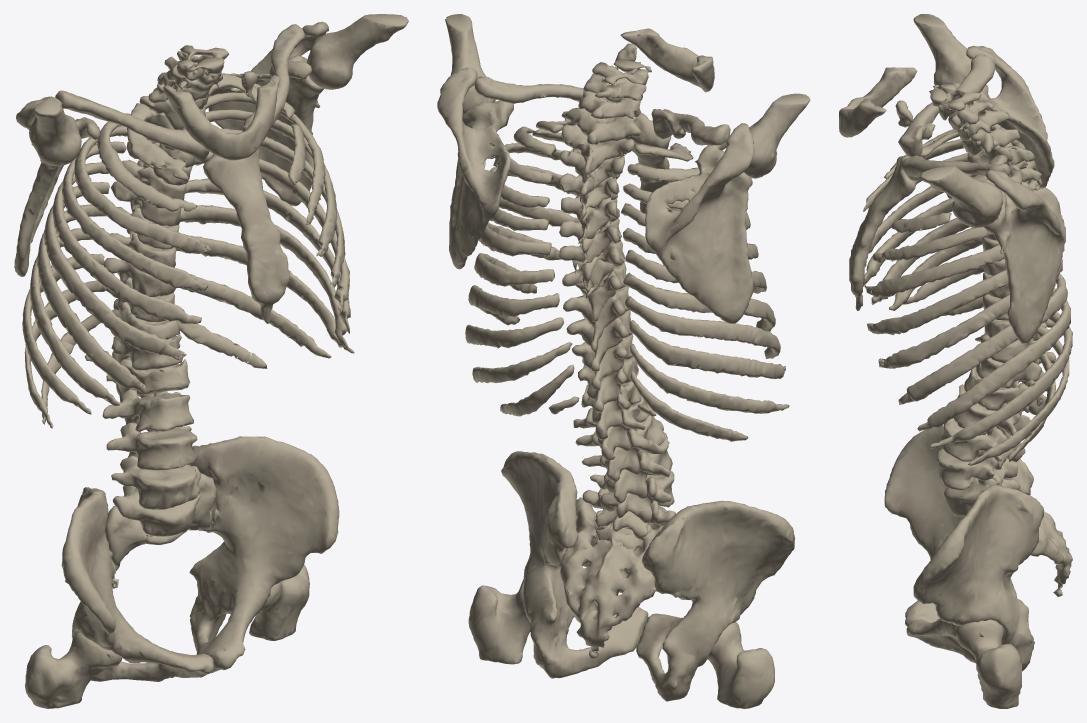
Rendered from tsd_s0196_older_adult_female.skeletal.LOD2.glb.
3 views of the same model, side by side, from view 1: azimuth 30°, elevation 25°; view 2: azimuth 150°, elevation 25°; view 3: azimuth 270°, elevation 25° (orthographic). The views are drawn at different scales.
Visible parts, largest first — view 1: TSD_S0196.OLDER_ADULT.FEMALE.SKELETAL.HIP_BONE_OS_COXAE.L, TSD_S0196.OLDER_ADULT.FEMALE.SKELETAL.HIP_BONE_OS_COXAE.R, TSD_S0196.OLDER_ADULT.FEMALE.SKELETAL.STERNUM, TSD_S0196.OLDER_ADULT.FEMALE.SKELETAL.SCAPULA.L, TSD_S0196.OLDER_ADULT.FEMALE.SKELETAL.FEMUR.R, TSD_S0196.OLDER_ADULT.FEMALE.SKELETAL.SKULL, TSD_S0196.OLDER_ADULT.FEMALE.SKELETAL.HUMERUS.L, TSD_S0196.OLDER_ADULT.FEMALE.SKELETAL.RIB_6.R, TSD_S0196.OLDER_ADULT.FEMALE.SKELETAL.RIB_5.R, TSD_S0196.OLDER_ADULT.FEMALE.SKELETAL.RIB_7.R, TSD_S0196.OLDER_ADULT.FEMALE.SKELETAL.RIB_4.R, TSD_S0196.OLDER_ADULT.FEMALE.SKELETAL.SCAPULA.R (+37 smaller); view 2: TSD_S0196.OLDER_ADULT.FEMALE.SKELETAL.HIP_BONE_OS_COXAE.R, TSD_S0196.OLDER_ADULT.FEMALE.SKELETAL.SCAPULA.R, TSD_S0196.OLDER_ADULT.FEMALE.SKELETAL.HIP_BONE_OS_COXAE.L, TSD_S0196.OLDER_ADULT.FEMALE.SKELETAL.SCAPULA.L, TSD_S0196.OLDER_ADULT.FEMALE.SKELETAL.SACRUM, TSD_S0196.OLDER_ADULT.FEMALE.SKELETAL.FEMUR.L, TSD_S0196.OLDER_ADULT.FEMALE.SKELETAL.FEMUR.R, TSD_S0196.OLDER_ADULT.FEMALE.SKELETAL.SKULL, TSD_S0196.OLDER_ADULT.FEMALE.SKELETAL.RIB_8.R, TSD_S0196.OLDER_ADULT.FEMALE.SKELETAL.RIB_9.R, TSD_S0196.OLDER_ADULT.FEMALE.SKELETAL.HUMERUS.R, TSD_S0196.OLDER_ADULT.FEMALE.SKELETAL.RIB_10.R (+41 smaller); view 3: TSD_S0196.OLDER_ADULT.FEMALE.SKELETAL.HIP_BONE_OS_COXAE.L, TSD_S0196.OLDER_ADULT.FEMALE.SKELETAL.SCAPULA.L, TSD_S0196.OLDER_ADULT.FEMALE.SKELETAL.HIP_BONE_OS_COXAE.R, TSD_S0196.OLDER_ADULT.FEMALE.SKELETAL.SCAPULA.R, TSD_S0196.OLDER_ADULT.FEMALE.SKELETAL.FEMUR.L, TSD_S0196.OLDER_ADULT.FEMALE.SKELETAL.RIB_8.L, TSD_S0196.OLDER_ADULT.FEMALE.SKELETAL.HUMERUS.L, TSD_S0196.OLDER_ADULT.FEMALE.SKELETAL.RIB_7.L, TSD_S0196.OLDER_ADULT.FEMALE.SKELETAL.STERNUM, TSD_S0196.OLDER_ADULT.FEMALE.SKELETAL.SKULL, TSD_S0196.OLDER_ADULT.FEMALE.SKELETAL.RIB_9.L, TSD_S0196.OLDER_ADULT.FEMALE.SKELETAL.RIB_6.L (+30 smaller).
Boxes of the visible parts, x1,y1,x2,y2 form: TSD_S0196.OLDER_ADULT.FEMALE.SKELETAL.HIP_BONE_OS_COXAE.L: (189, 436, 339, 673); TSD_S0196.OLDER_ADULT.FEMALE.SKELETAL.HIP_BONE_OS_COXAE.R: (61, 487, 213, 681); TSD_S0196.OLDER_ADULT.FEMALE.SKELETAL.STERNUM: (203, 148, 289, 323); TSD_S0196.OLDER_ADULT.FEMALE.SKELETAL.SCAPULA.L: (208, 21, 328, 206); TSD_S0196.OLDER_ADULT.FEMALE.SKELETAL.FEMUR.R: (25, 631, 122, 708); TSD_S0196.OLDER_ADULT.FEMALE.SKELETAL.SKULL: (163, 71, 280, 160); TSD_S0196.OLDER_ADULT.FEMALE.SKELETAL.HUMERUS.L: (307, 14, 408, 89); TSD_S0196.OLDER_ADULT.FEMALE.SKELETAL.RIB_6.R: (44, 182, 186, 360); TSD_S0196.OLDER_ADULT.FEMALE.SKELETAL.RIB_5.R: (52, 162, 201, 323); TSD_S0196.OLDER_ADULT.FEMALE.SKELETAL.RIB_7.R: (37, 204, 145, 394); TSD_S0196.OLDER_ADULT.FEMALE.SKELETAL.RIB_4.R: (62, 141, 207, 292); TSD_S0196.OLDER_ADULT.FEMALE.SKELETAL.SCAPULA.R: (14, 96, 100, 276); TSD_S0196.OLDER_ADULT.FEMALE.SKELETAL.HIP_BONE_OS_COXAE.R: (636, 500, 795, 701); TSD_S0196.OLDER_ADULT.FEMALE.SKELETAL.SCAPULA.R: (645, 123, 754, 323); TSD_S0196.OLDER_ADULT.FEMALE.SKELETAL.HIP_BONE_OS_COXAE.L: (501, 451, 648, 678); TSD_S0196.OLDER_ADULT.FEMALE.SKELETAL.SCAPULA.L: (437, 67, 513, 269); TSD_S0196.OLDER_ADULT.FEMALE.SKELETAL.SACRUM: (560, 497, 664, 658); TSD_S0196.OLDER_ADULT.FEMALE.SKELETAL.FEMUR.L: (468, 578, 530, 664); TSD_S0196.OLDER_ADULT.FEMALE.SKELETAL.FEMUR.R: (707, 622, 774, 708); TSD_S0196.OLDER_ADULT.FEMALE.SKELETAL.SKULL: (615, 28, 714, 92); TSD_S0196.OLDER_ADULT.FEMALE.SKELETAL.RIB_8.R: (625, 296, 780, 358); TSD_S0196.OLDER_ADULT.FEMALE.SKELETAL.RIB_9.R: (629, 320, 785, 379); TSD_S0196.OLDER_ADULT.FEMALE.SKELETAL.HUMERUS.R: (744, 93, 810, 178); TSD_S0196.OLDER_ADULT.FEMALE.SKELETAL.RIB_10.R: (630, 344, 789, 413); TSD_S0196.OLDER_ADULT.FEMALE.SKELETAL.HIP_BONE_OS_COXAE.L: (906, 484, 1044, 671); TSD_S0196.OLDER_ADULT.FEMALE.SKELETAL.SCAPULA.L: (976, 170, 1065, 344); TSD_S0196.OLDER_ADULT.FEMALE.SKELETAL.HIP_BONE_OS_COXAE.R: (884, 425, 1033, 626); TSD_S0196.OLDER_ADULT.FEMALE.SKELETAL.SCAPULA.R: (951, 45, 1054, 187); TSD_S0196.OLDER_ADULT.FEMALE.SKELETAL.FEMUR.L: (955, 619, 1021, 708); TSD_S0196.OLDER_ADULT.FEMALE.SKELETAL.RIB_8.L: (917, 288, 1070, 431); TSD_S0196.OLDER_ADULT.FEMALE.SKELETAL.HUMERUS.L: (920, 165, 1003, 227); TSD_S0196.OLDER_ADULT.FEMALE.SKELETAL.RIB_7.L: (898, 274, 1067, 404); TSD_S0196.OLDER_ADULT.FEMALE.SKELETAL.STERNUM: (849, 155, 918, 310); TSD_S0196.OLDER_ADULT.FEMALE.SKELETAL.SKULL: (839, 67, 917, 137); TSD_S0196.OLDER_ADULT.FEMALE.SKELETAL.RIB_9.L: (929, 312, 1072, 448); TSD_S0196.OLDER_ADULT.FEMALE.SKELETAL.RIB_6.L: (878, 258, 1062, 368).
Size of the model in its own units: 0.349 by 0.5509 by 0.2074.
